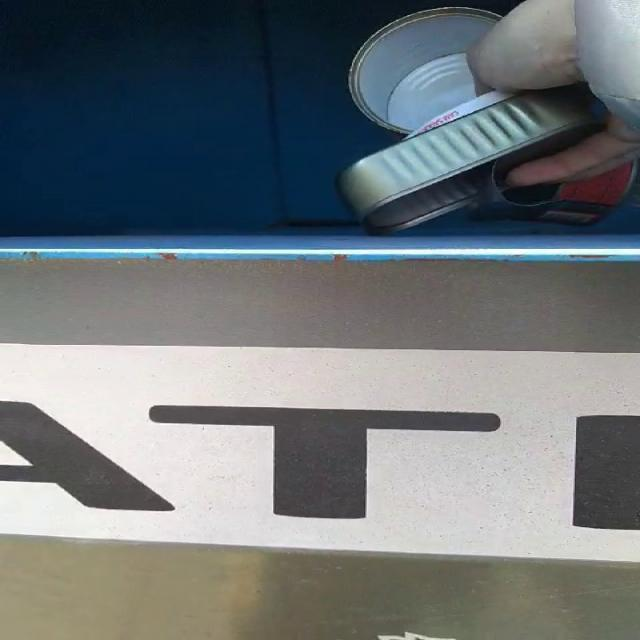Bin: (1, 0, 640, 640)
Metal: (339, 7, 635, 234)
